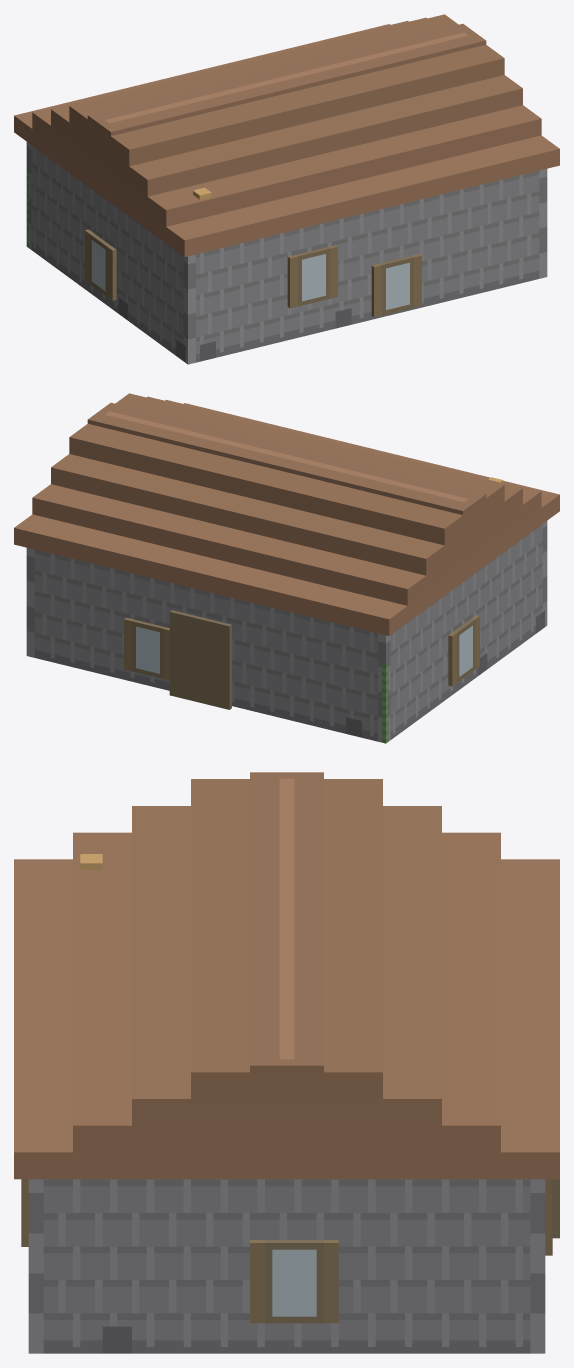
The model's file is destileria_03.glb.
3 renders of one model, top to bottom at view 1: azimuth 30°, elevation 25°; view 2: azimuth 150°, elevation 25°; view 3: azimuth 270°, elevation 25°, orthographic. The views are drawn at different scales.
Visible parts, largest first — view 1: destileria_03; view 2: destileria_03; view 3: destileria_03.
Part boxes in pixels (box(x1,y1,x2,y2)): destileria_03: box(14, 14, 559, 364); destileria_03: box(14, 393, 559, 743); destileria_03: box(14, 772, 559, 1353).
Bounding box in the file's own units: 9.4 × 4.4 × 7.4.
